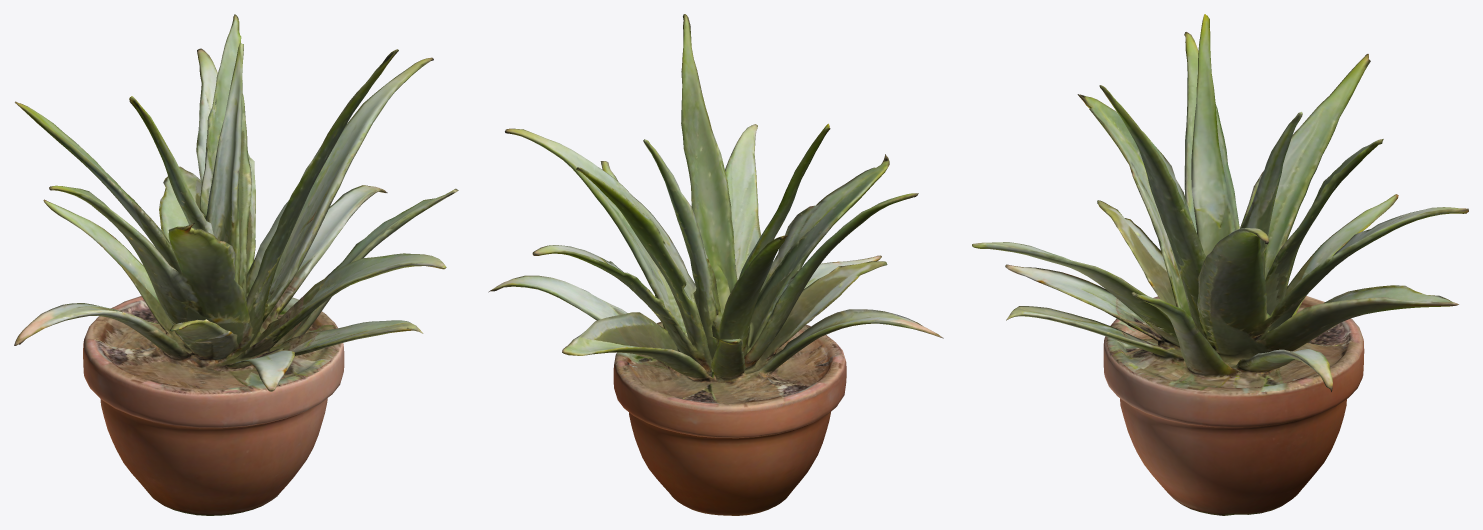
File: aloevera.glb
3 renders of one model, left to right at view 1: azimuth 30°, elevation 25°; view 2: azimuth 150°, elevation 25°; view 3: azimuth 270°, elevation 25°, orthographic. The views are drawn at different scales.
Bounding box in the file's own units: 2 × 1.93 × 1.89.
Materials: 1 (1 with a texture image).
